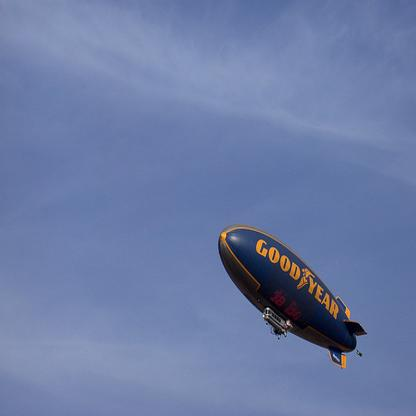Airship: (216, 221, 369, 375)
